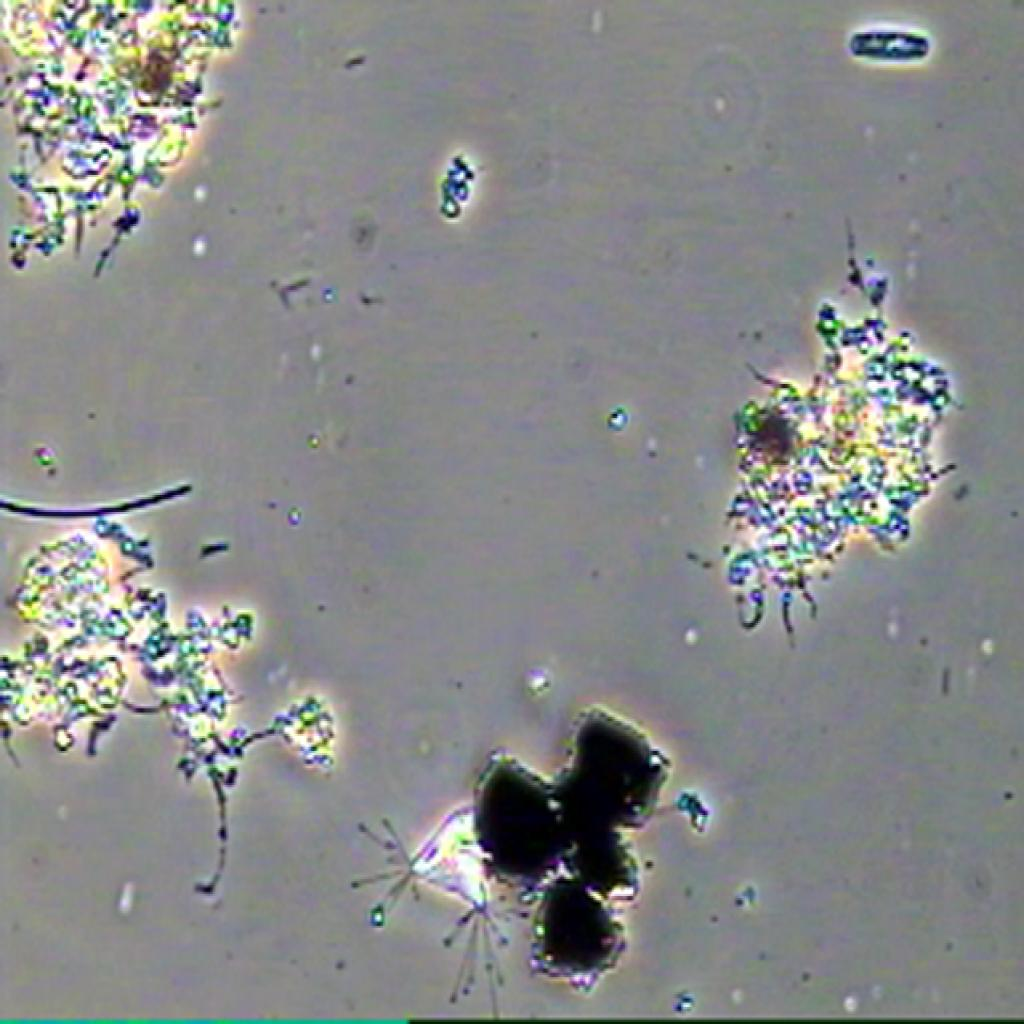Suctorida: (349, 803, 510, 1019)
